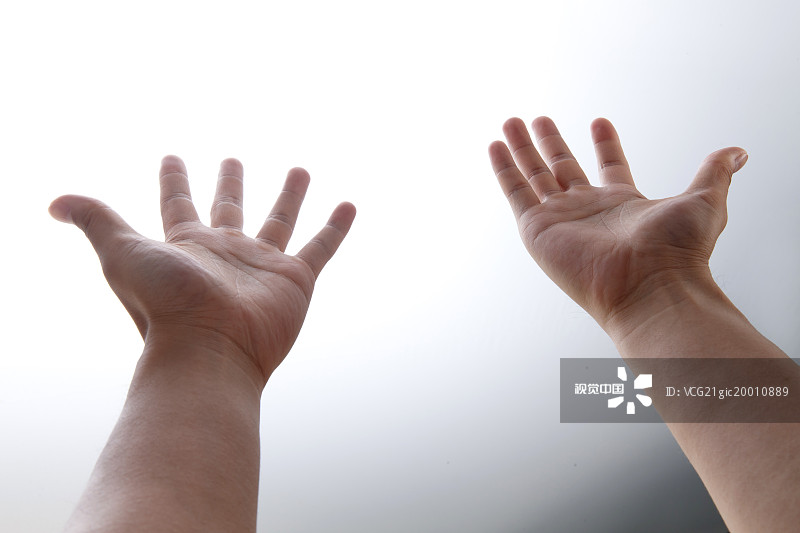no-phone: (34, 125, 369, 389), (468, 89, 774, 328)
